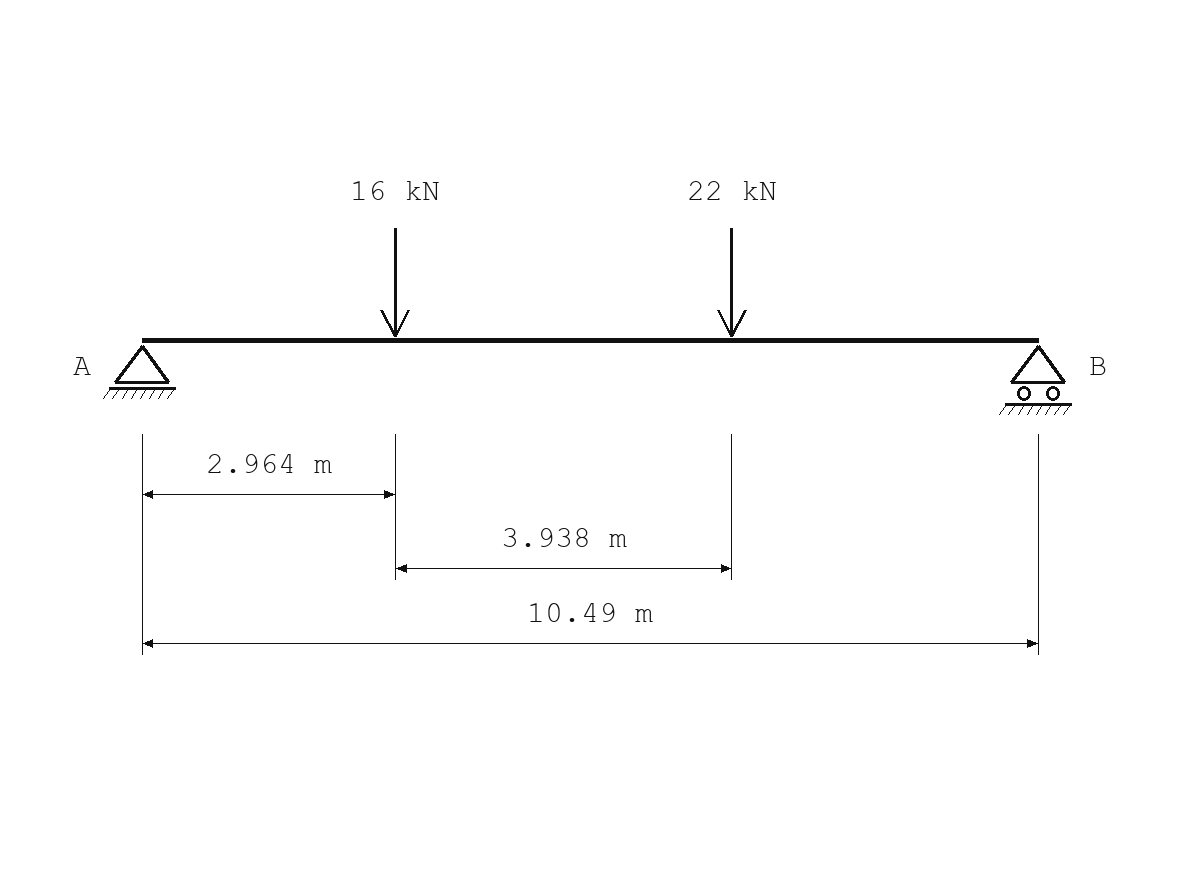pin_support: (103, 345, 176, 399)
point_load: (380, 228, 410, 337), (717, 228, 747, 337)
roller_support: (999, 345, 1072, 415)
